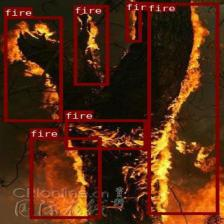fire: (147, 2, 218, 214), (4, 16, 62, 121), (30, 137, 100, 218), (73, 5, 108, 85), (64, 119, 146, 149), (125, 1, 141, 42)
